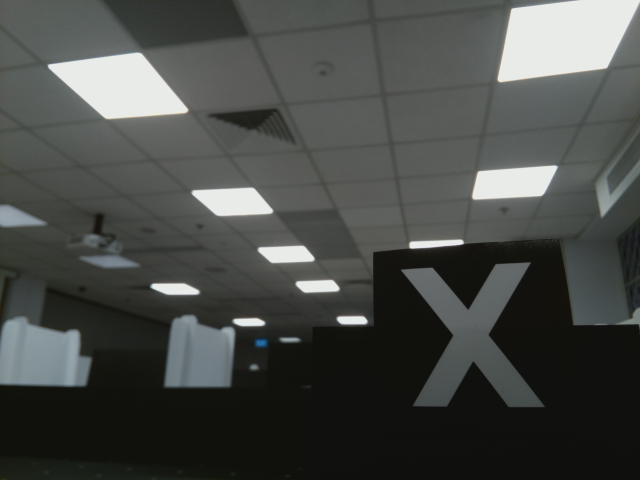x: (385, 251, 548, 413)
